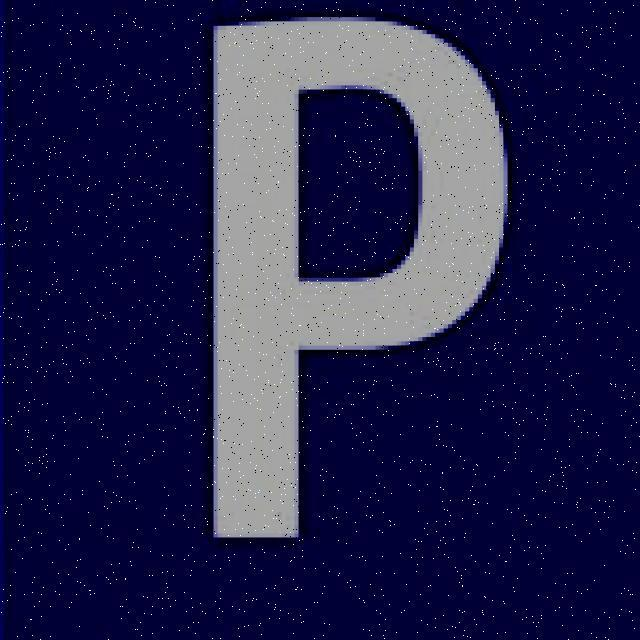Tempat Parkir: (12, 4, 633, 630)
